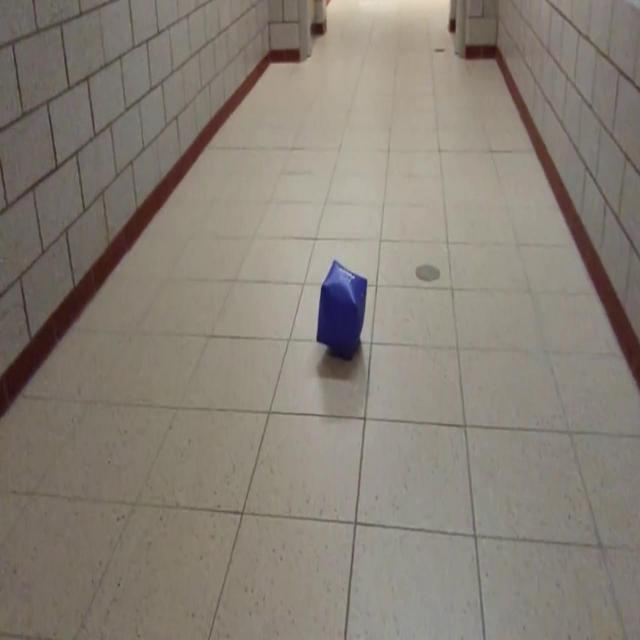frc_cube: (315, 259, 369, 361)
